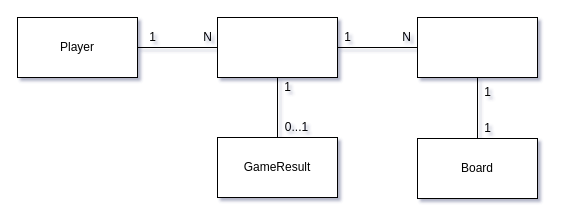
Some shapes in this 561 by 222 pixel diagram are drawn without their labels. Here are the shapes that lost their labels. From the top down, the centre of each, then its label:
At point (277, 47): "Game".
At point (477, 47): "Turn".
